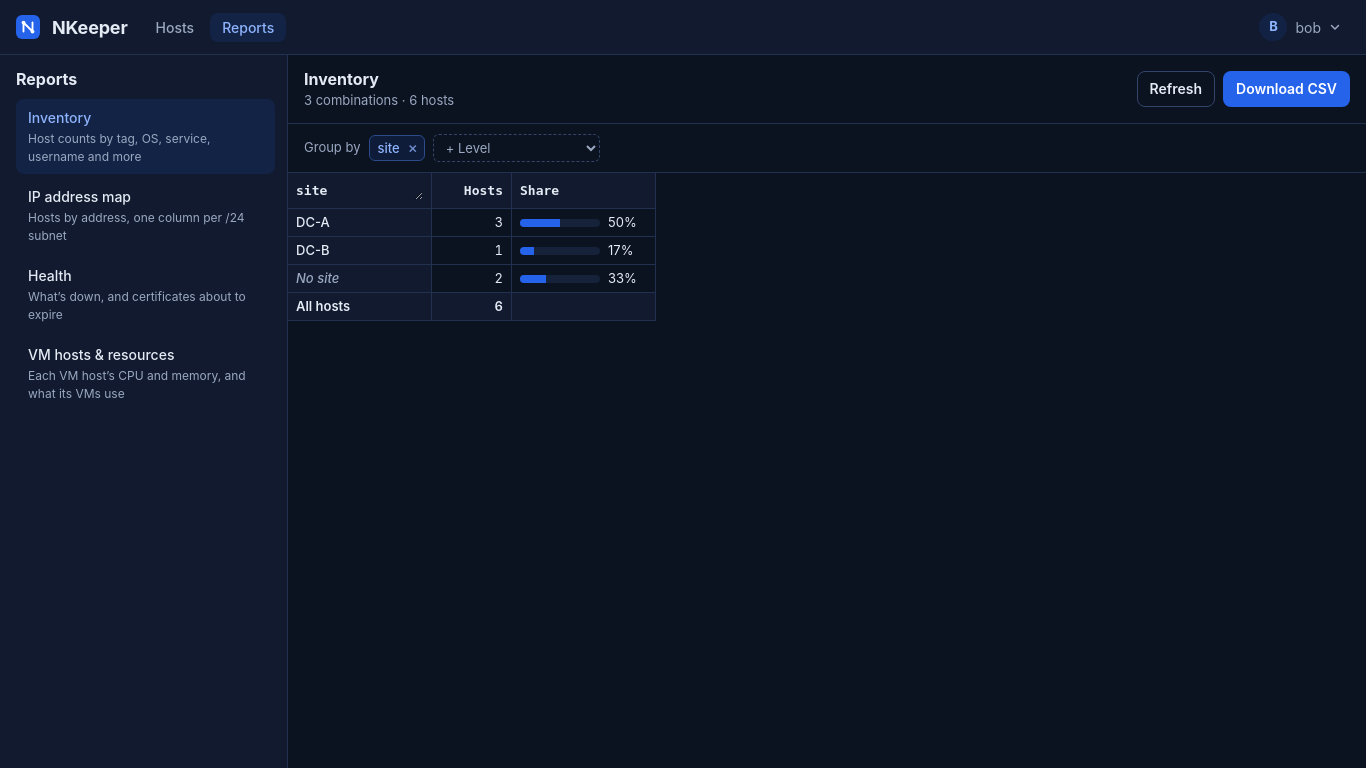
Scenario: inventory report › shows the counts for the fields in the URL, and adds a field from the picker
This screenshot has width=1366, height=768.
Expected: the text "3 combinations · 6 hosts" is shown, [304,91,454,110]
Select "Operating system" in the dropdown named "Add grouping level" at (516, 148), box [433,134,600,162]
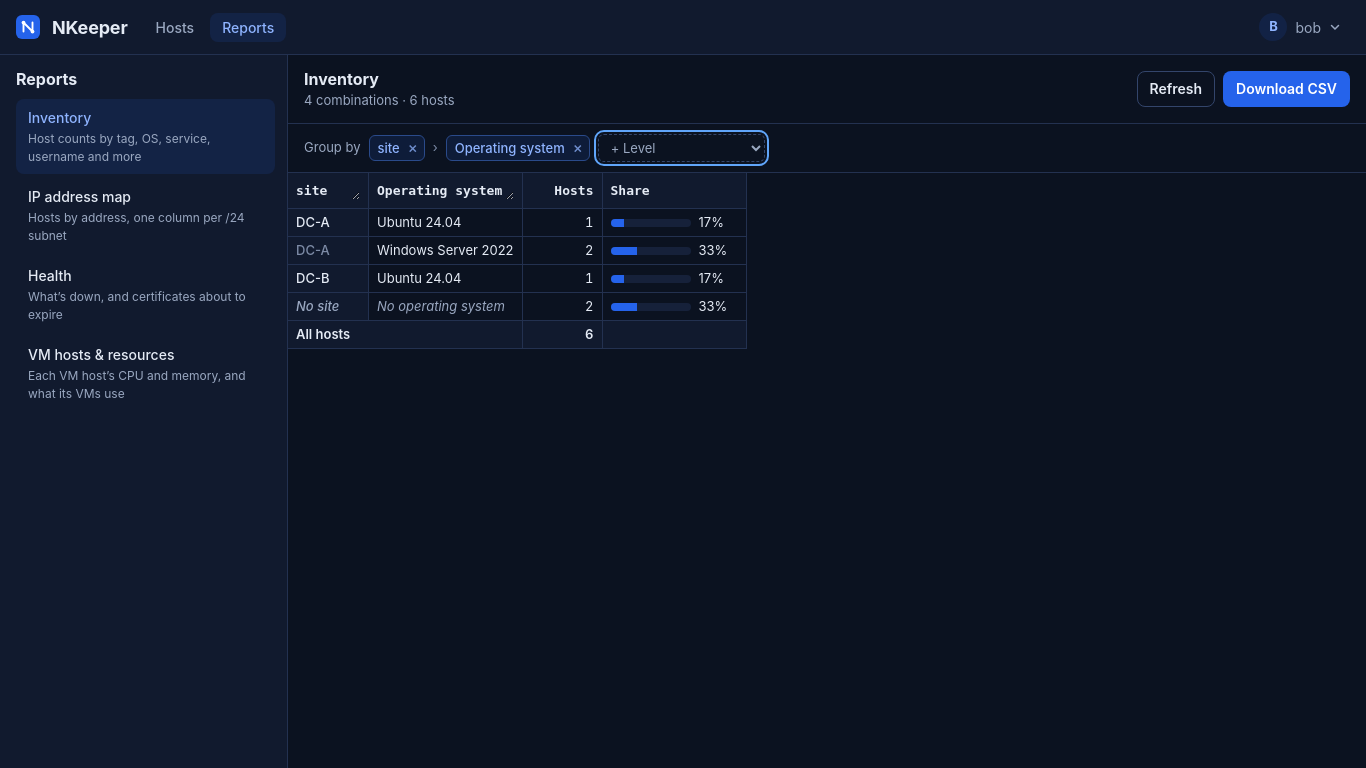
Expected: the column heading "Operating system" is shown, [369,172,522,209]
Expected: the text "4 combinations · 6 hosts" is shown, [304,91,455,110]
